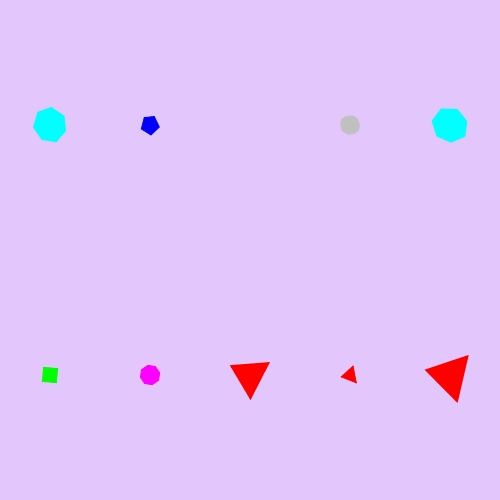decagon: (335, 111, 365, 139)
heptagon: (428, 104, 472, 146), (29, 105, 72, 146)
octagon: (135, 360, 165, 390)
pentagon: (136, 111, 164, 139)
quadrilateral: (35, 360, 65, 390)
triangle: (426, 349, 475, 401), (228, 352, 272, 398), (338, 362, 363, 388)
